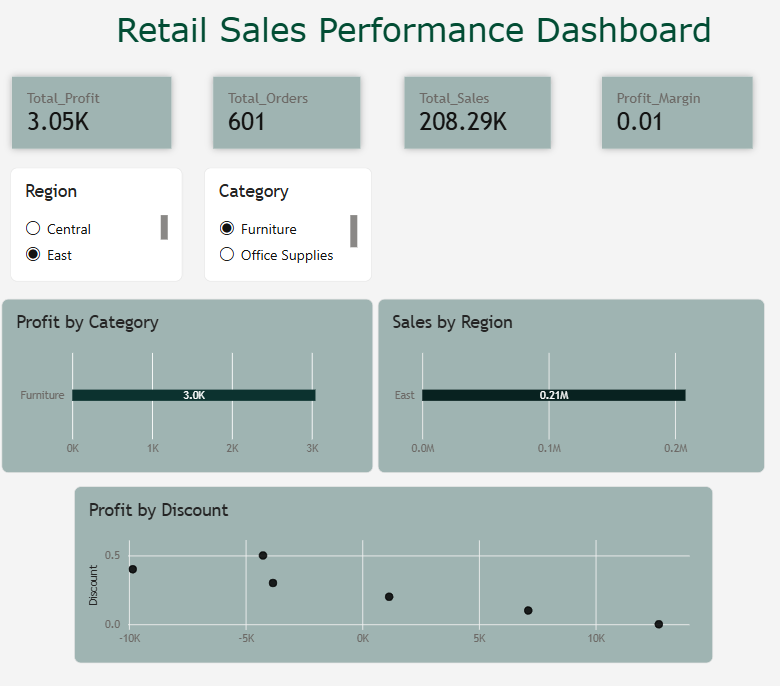

Layout of this report page (visuals, bound fields, positions):
{"tool":"powerbi","page":{"name":"Page 1","canvas":[1920,1080],"ordinal":0},"visuals":[{"type":"cardVisual","fields":{"Data":["SampleSuperstore.Total_Orders"]},"box":[237,74,195,109],"z":0},{"type":"cardVisual","fields":{"Data":["SampleSuperstore.Profit_Margin"]},"box":[682,74,199,109],"z":1000},{"type":"cardVisual","fields":{"Data":["SampleSuperstore.Total_Sales"]},"box":[456,74,194,109],"z":3000},{"type":"clusteredBarChart","title":"Profit by Category","fields":{"Category":["SampleSuperstore.Category"],"Y":["SampleSuperstore.Total_Profit"]},"box":[8,341,424.4,198.9],"z":4000},{"type":"barChart","title":"Sales by Region","fields":{"Category":["SampleSuperstore.Region"],"Y":["SampleSuperstore.Total_Sales"]},"box":[439,341,442.2,198.9],"z":5000},{"type":"scatterChart","title":"Profit by Discount","fields":{"X":["Sum(SampleSuperstore.Profit)"],"Y":["SampleSuperstore.Discount"]},"box":[91,556,730,202.2],"z":6000},{"type":"listSlicer","fields":{"Values":["SampleSuperstore.Region"]},"box":[19,192,197,130],"z":7000},{"type":"listSlicer","fields":{"Values":["SampleSuperstore.Category"]},"box":[240,192,192,130],"z":8000},{"type":"textbox","box":[0,10,960,64.4],"z":9000},{"type":"cardVisual","fields":{"Data":["SampleSuperstore.Total_Profit"]},"box":[7,74,209,109],"z":9001}]}

Visuals, with their boxes on the page's 1920x1080 design canvas (x1, y1, x2, y2). These are canvas units, not pixel positions in the 780x686 screenshot, which may show the page scaled, cropped or inside an application window:
cardVisual - SampleSuperstore.Total_Orders: bbox(237, 74, 432, 183)
cardVisual - SampleSuperstore.Profit_Margin: bbox(682, 74, 881, 183)
cardVisual - SampleSuperstore.Total_Sales: bbox(456, 74, 650, 183)
"Profit by Category" clusteredBarChart: bbox(8, 341, 432, 540)
"Sales by Region" barChart: bbox(439, 341, 881, 540)
"Profit by Discount" scatterChart: bbox(91, 556, 821, 758)
listSlicer - SampleSuperstore.Region: bbox(19, 192, 216, 322)
listSlicer - SampleSuperstore.Category: bbox(240, 192, 432, 322)
textbox: bbox(0, 10, 960, 74)
cardVisual - SampleSuperstore.Total_Profit: bbox(7, 74, 216, 183)
